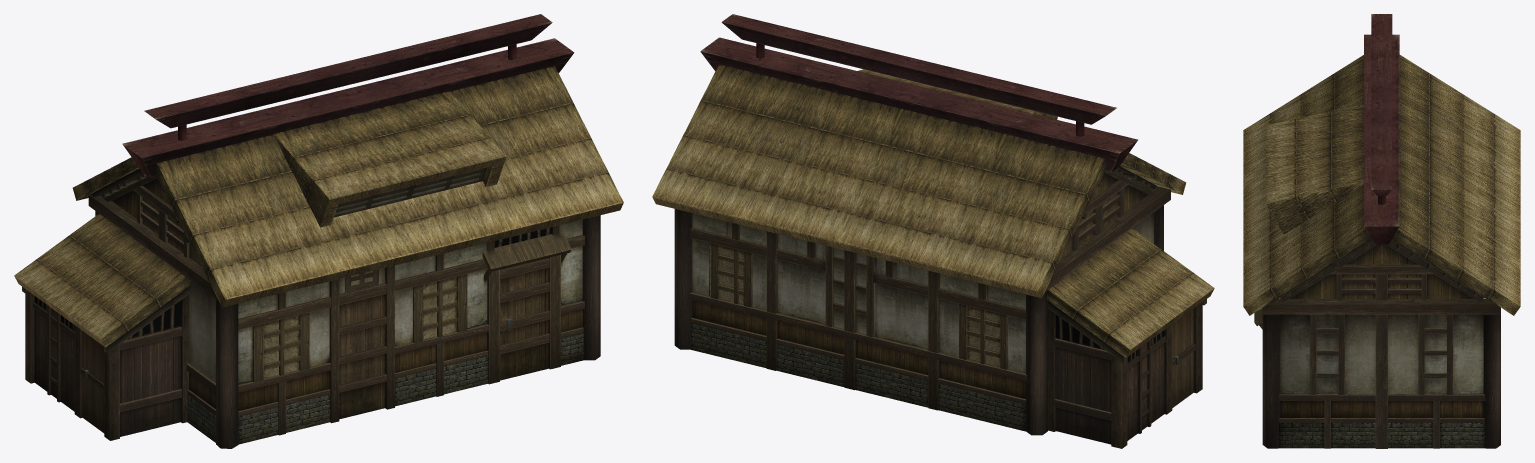
Rendered from fortms_build_normal_00.fbx.
3 views of the same model, side by side, from view 1: azimuth 30°, elevation 25°; view 2: azimuth 150°, elevation 25°; view 3: azimuth 270°, elevation 25° (orthographic). The views are drawn at different scales.
Visible parts, largest first — view 1: fortMS_build_normal_top; view 2: fortMS_build_normal_top; view 3: fortMS_build_normal_top.
Part boxes in pixels (x1=…): fortMS_build_normal_top: x1=14, y1=14, x2=623, y2=448; fortMS_build_normal_top: x1=652, y1=14, x2=1214, y2=448; fortMS_build_normal_top: x1=1243, y1=14, x2=1520, y2=448.
Bounding box in the file's own units: 16.83 × 9.5 × 9.06.
